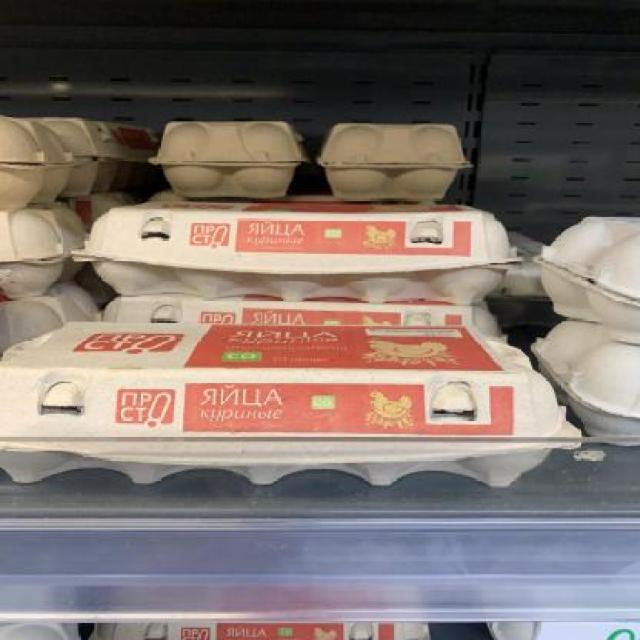egg: (0, 322, 583, 486), (75, 202, 530, 304), (542, 214, 640, 338), (148, 118, 302, 196), (314, 122, 468, 198), (0, 201, 84, 297), (0, 118, 75, 209)
